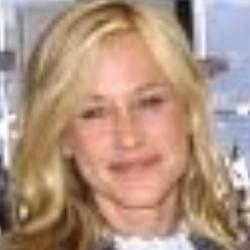face: (14, 1, 230, 228)
